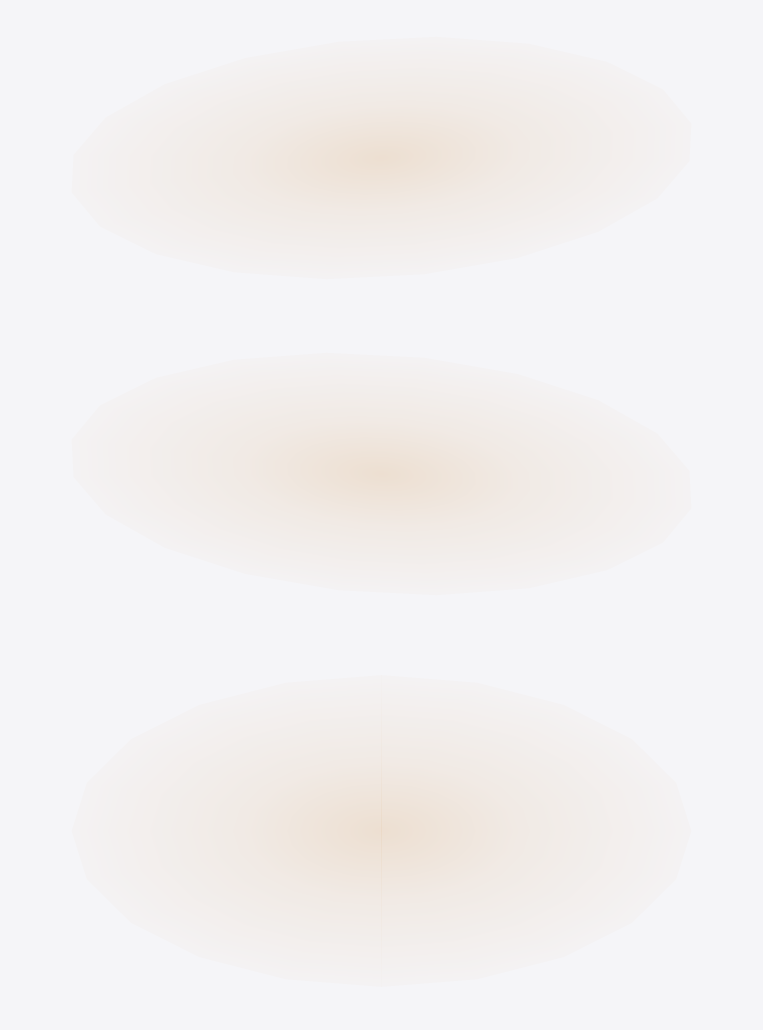
Rendered from lamplight_pool.glb.
The picture shows the model from 3 angles, top to bottom: view 1: azimuth 30°, elevation 25°; view 2: azimuth 150°, elevation 25°; view 3: azimuth 270°, elevation 25°; orthographic projection. The views are drawn at different scales.
Visible parts, largest first — view 1: Weicher Lichtschein; view 2: Weicher Lichtschein; view 3: Weicher Lichtschein.
Boxes of the visible parts, x1,y1,x2,y2 form: Weicher Lichtschein: (279,118,483,197); Weicher Lichtschein: (279,434,483,513); Weicher Lichtschein: (279,758,483,903).
Size of the model in its own units: 2.84 by 0 by 2.39.
